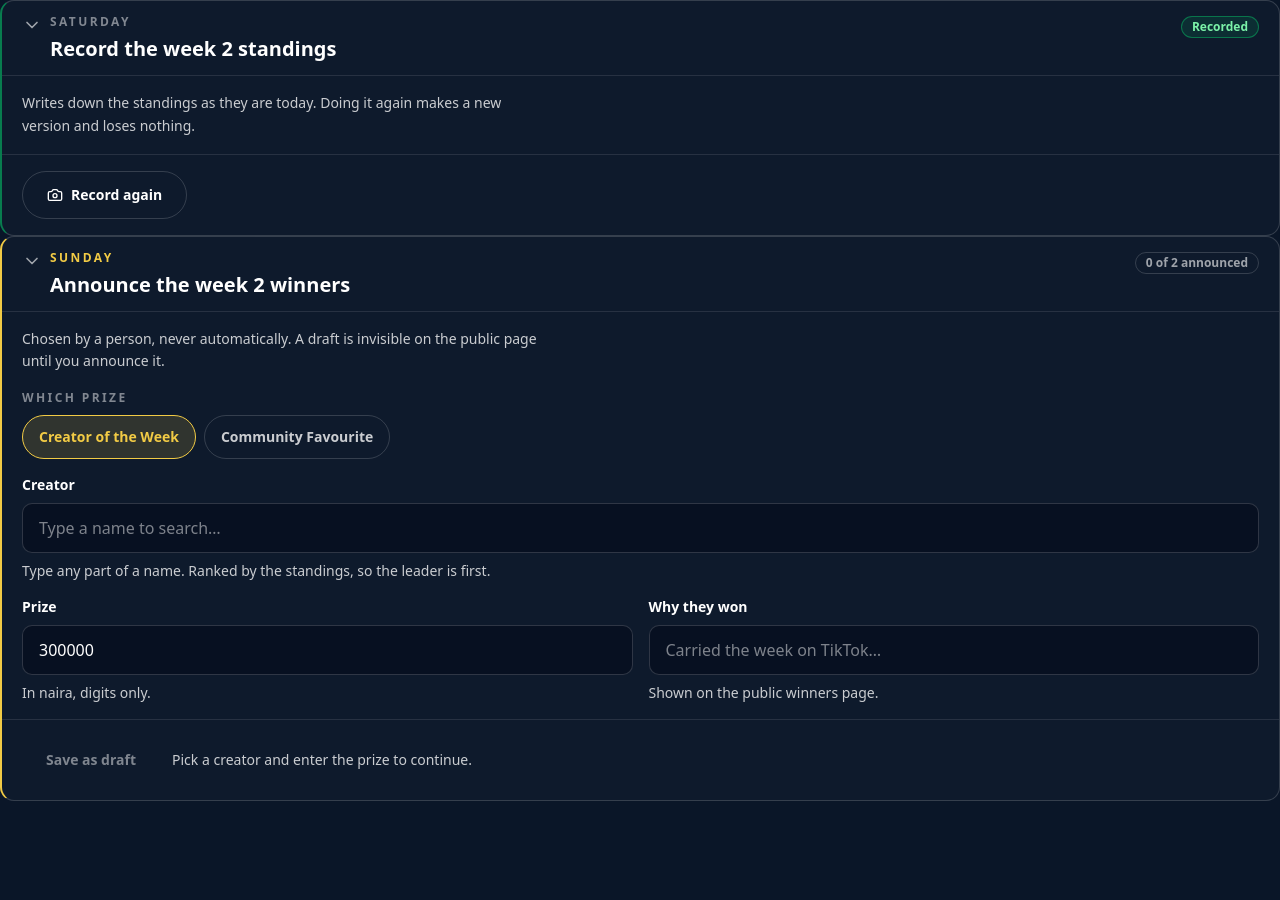
Scenario: announcing Creator of the Week › names the award, the week, the creator and the prize, and the award it is not
The width and height of the screenshot is (1280, 900).
In the dropdown: (640,528) [22, 503, 1259, 553], type "amara"
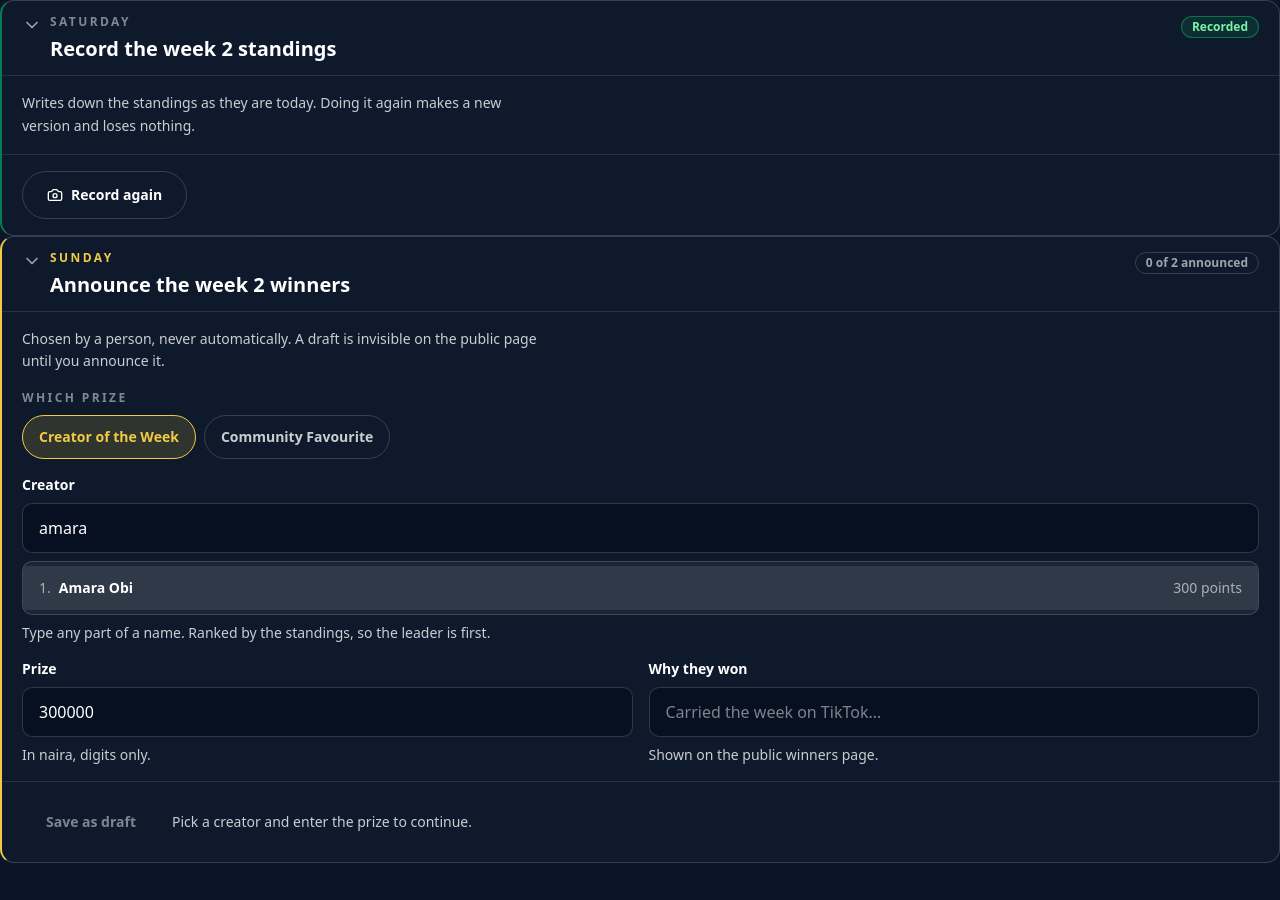
Press the mouse on the option "1. Amara Obi 300 points": (96,588) [23, 566, 1258, 610]
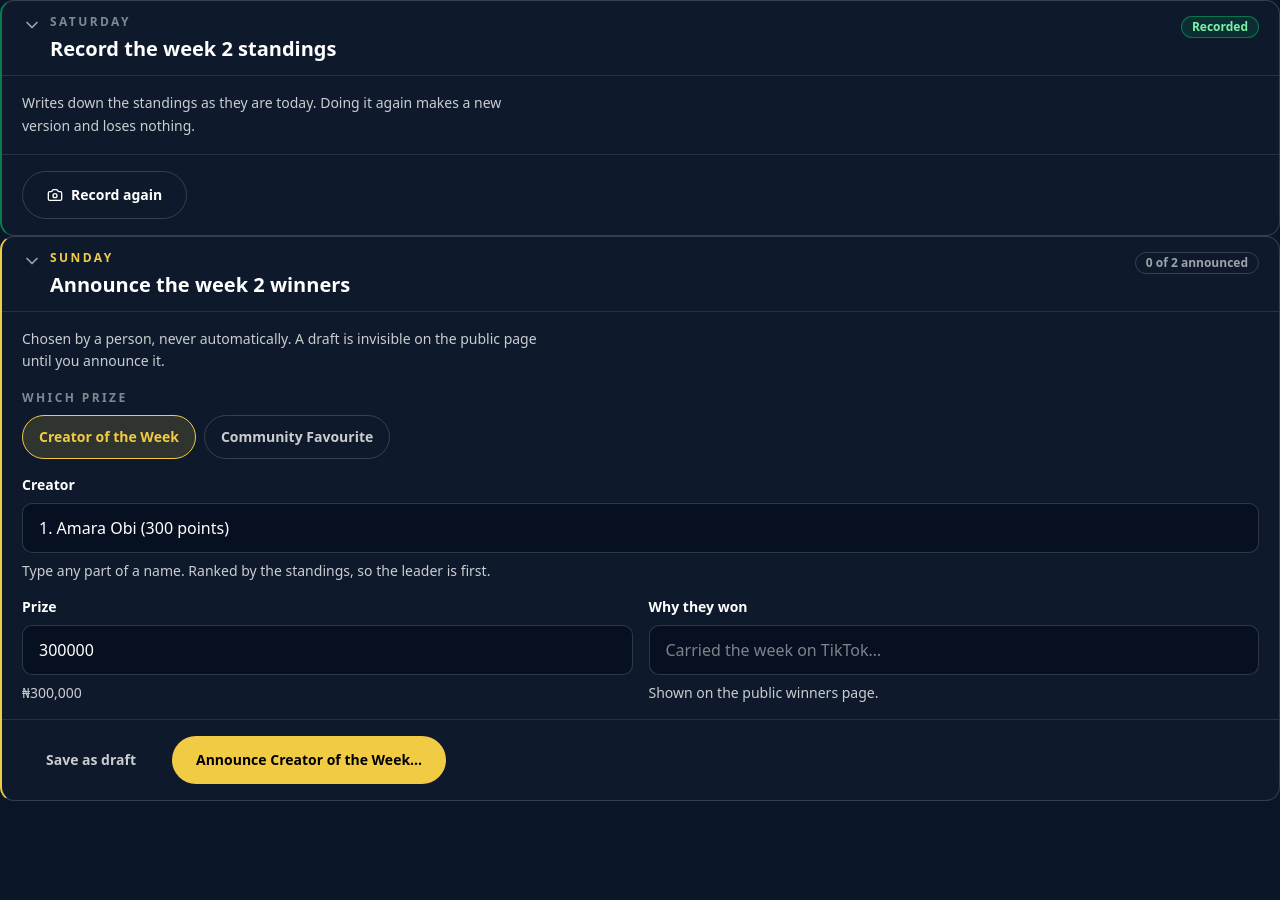
Click the button "Announce Creator of the Week…": (309,760) [172, 736, 446, 784]
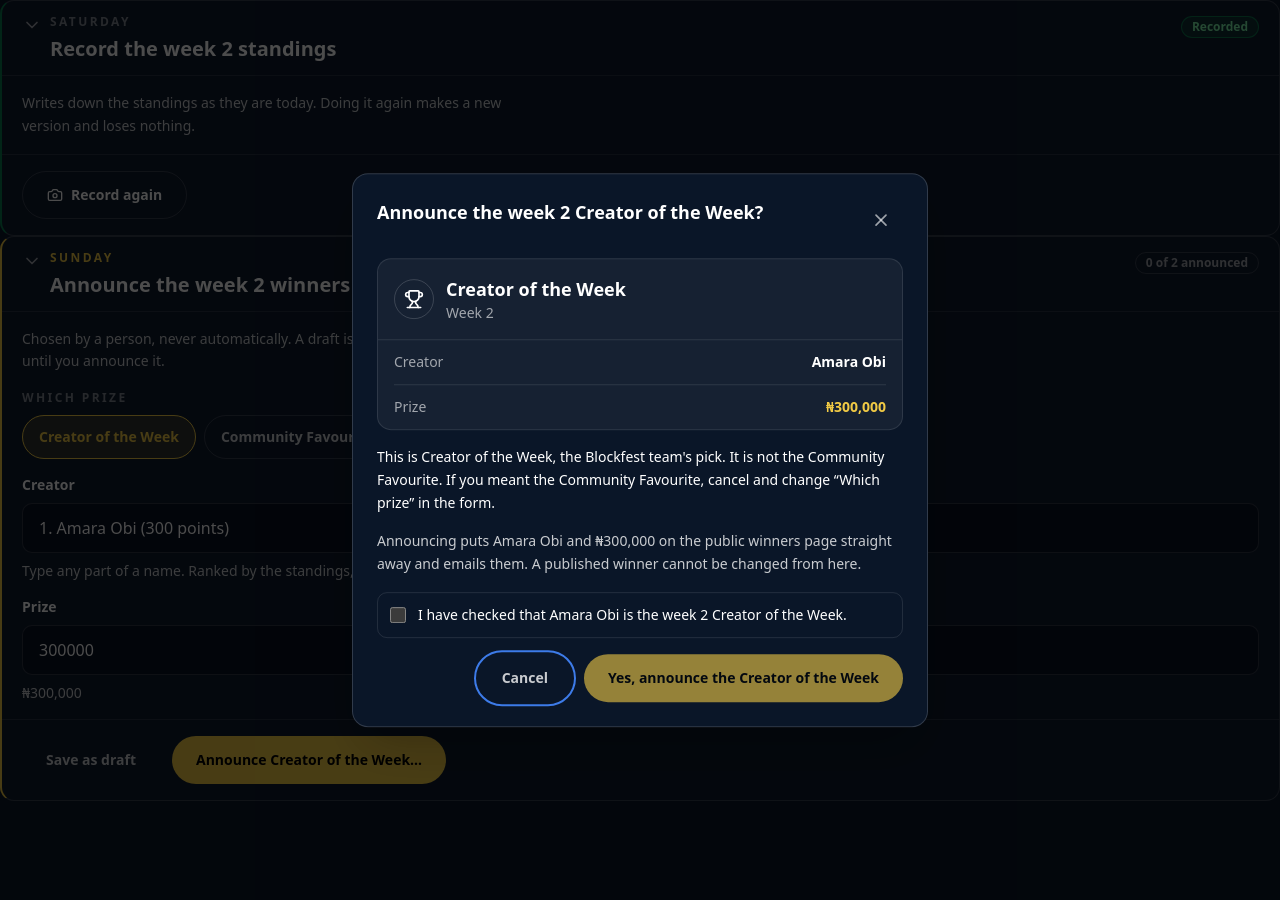
Check: the text "Amara Obi" is shown, box [812, 352, 886, 372]
Check: the text "₦300,000" is shown, box [826, 397, 886, 417]
Check: the text "Week 2" is shown, box [446, 303, 494, 322]
